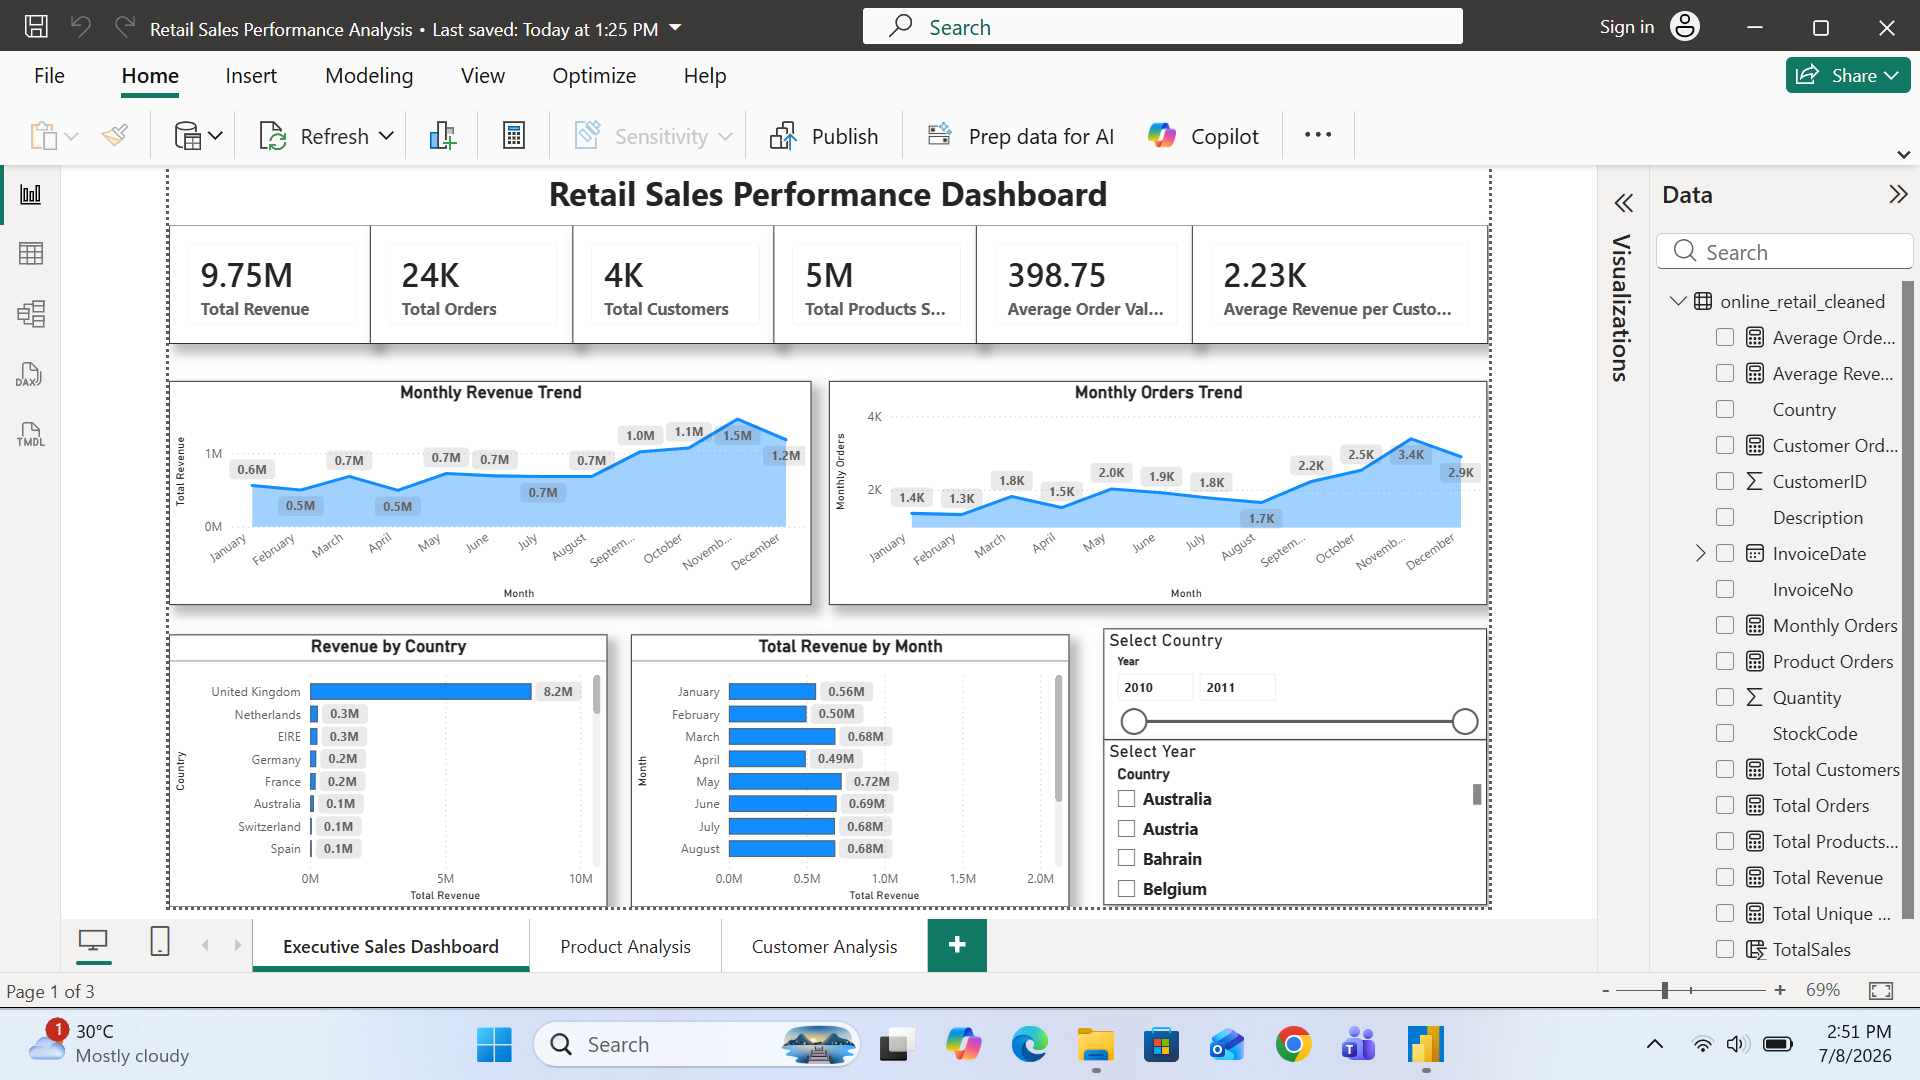

Layout of this report page (visuals, bound fields, positions):
{"tool":"powerbi","page":{"name":"Executive Sales Dashboard","canvas":[1280,720],"ordinal":0},"visuals":[{"type":"cardVisual","fields":{"Data":["online_retail_cleaned.Total Revenue"]},"box":[0,58.6,200.3,115.3],"z":0},{"type":"cardVisual","fields":{"Data":["online_retail_cleaned.Total Orders"]},"box":[195.7,58.6,200.3,115.3],"z":1000},{"type":"cardVisual","fields":{"Data":["online_retail_cleaned.Total Customers"]},"box":[391.4,58.6,200.3,115.3],"z":2000},{"type":"cardVisual","fields":{"Data":["online_retail_cleaned.Total Products Sold"]},"box":[587.1,58.6,200.3,115.3],"z":3000},{"type":"cardVisual","fields":{"Data":["online_retail_cleaned.Average Order Value"]},"box":[782.8,58.6,214,115.3],"z":4000},{"type":"cardVisual","fields":{"Data":["online_retail_cleaned.Average Revenue per Customer"]},"box":[992.1,58.6,287.2,115.3],"z":5000},{"type":"lineChart","title":"Monthly Revenue Trend","fields":{"Category":["online_retail_cleaned.InvoiceDate.Variation.Date Hierarchy.Month"],"Y":["online_retail_cleaned.Total Revenue"]},"box":[0,209.8,623.6,217.3],"z":6000},{"type":"clusteredBarChart","fields":{"Y":["online_retail_cleaned.Total Revenue"],"Category":["online_retail_cleaned.InvoiceDate.Variation.Date Hierarchy.Month"]},"box":[447.9,455.4,425.2,264.6],"z":7000},{"type":"clusteredBarChart","title":"Revenue by Country","fields":{"Category":["online_retail_cleaned.Country"],"Y":["online_retail_cleaned.Total Revenue"]},"box":[0,455.4,425.2,264.6],"z":8000},{"type":"lineChart","title":"Monthly Orders Trend","fields":{"Y":["online_retail_cleaned.Monthly Orders"],"Category":["online_retail_cleaned.InvoiceDate.Variation.Date Hierarchy.Month"]},"box":[640.6,209.8,638.7,217.3],"z":9000},{"type":"slicer","title":"Select Country","fields":{"Values":["online_retail_cleaned.InvoiceDate.Variation.Date Hierarchy.Year"]},"box":[907.1,449.8,372.3,107.7],"z":10000},{"type":"slicer","title":"Select Year","fields":{"Values":["online_retail_cleaned.Country"]},"box":[907.1,557.5,372.3,160.6],"z":11000},{"type":"textbox","box":[0,0,1279.4,58.6],"z":12000}]}

Visuals, with their boxes on the page's 1280x720 design canvas (x1, y1, x2, y2). These are canvas units, not pixel positions in the 1920x1080 screenshot, which may show the page scaled, cropped or inside an application window:
cardVisual - online_retail_cleaned.Total Revenue: <region>0, 59, 200, 174</region>
cardVisual - online_retail_cleaned.Total Orders: <region>196, 59, 396, 174</region>
cardVisual - online_retail_cleaned.Total Customers: <region>391, 59, 592, 174</region>
cardVisual - online_retail_cleaned.Total Products Sold: <region>587, 59, 787, 174</region>
cardVisual - online_retail_cleaned.Average Order Value: <region>783, 59, 997, 174</region>
cardVisual - online_retail_cleaned.Average Revenue per Customer: <region>992, 59, 1279, 174</region>
"Monthly Revenue Trend" lineChart: <region>0, 210, 624, 427</region>
clusteredBarChart - online_retail_cleaned.Total Revenue x online_retail_cleaned.InvoiceDate.Variation.Date Hierarchy.Month: <region>448, 455, 873, 720</region>
"Revenue by Country" clusteredBarChart: <region>0, 455, 425, 720</region>
"Monthly Orders Trend" lineChart: <region>641, 210, 1279, 427</region>
"Select Country" slicer: <region>907, 450, 1279, 558</region>
"Select Year" slicer: <region>907, 558, 1279, 718</region>
textbox: <region>0, 0, 1279, 59</region>
